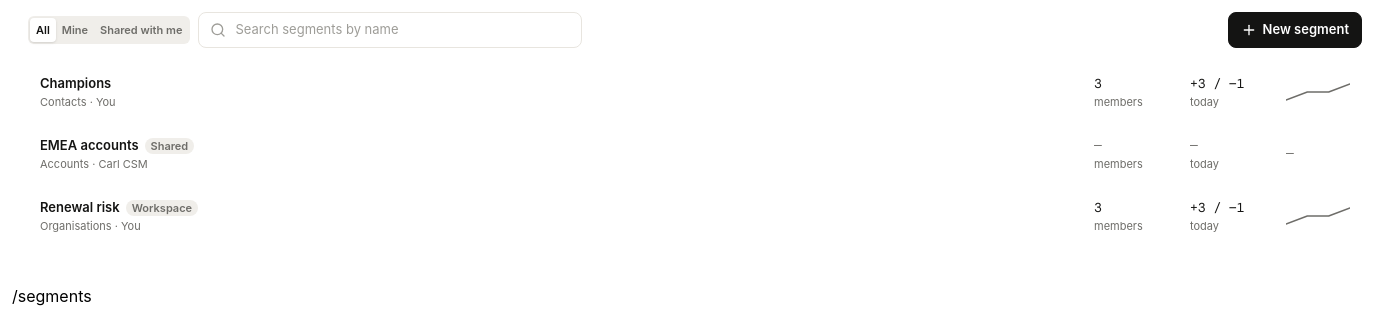
Test case: /segments (spec §3) › searches by name once typing stops
In the search field labelled "Search segments by name": (390, 30) [198,12,582,48], type "champ"
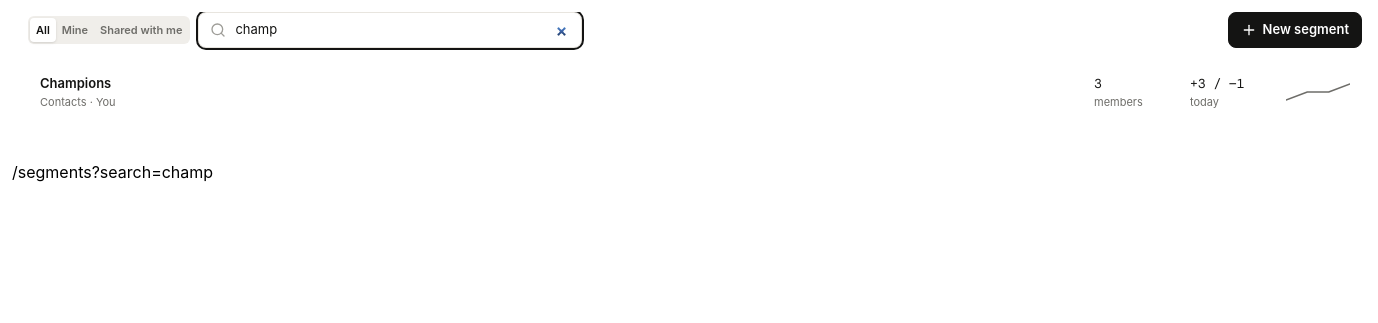
Expected: the text with test id "where" reads "/segments?search=champ", [12,162,213,182]
